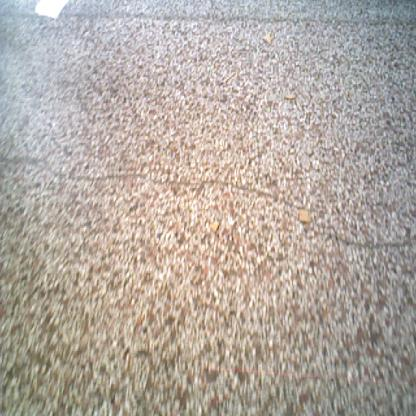dirty: (33, 1, 69, 22), (222, 70, 236, 85), (297, 208, 310, 224), (208, 218, 220, 234), (261, 31, 272, 46), (282, 92, 297, 100)
